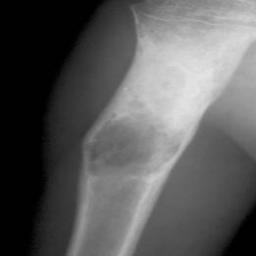cancer: (82, 108, 179, 179)
